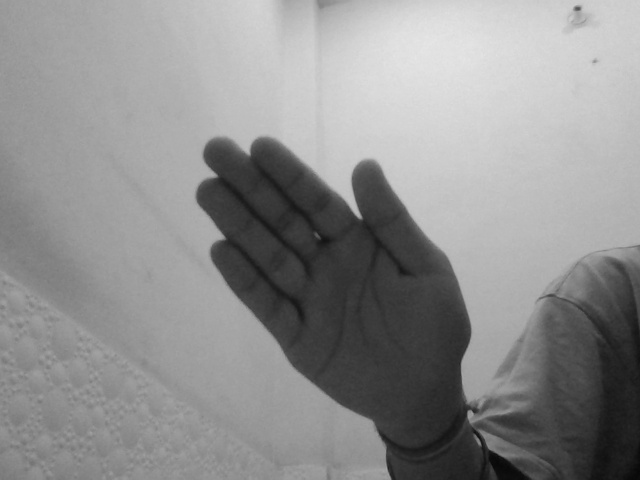Hello: (189, 131, 474, 429)
